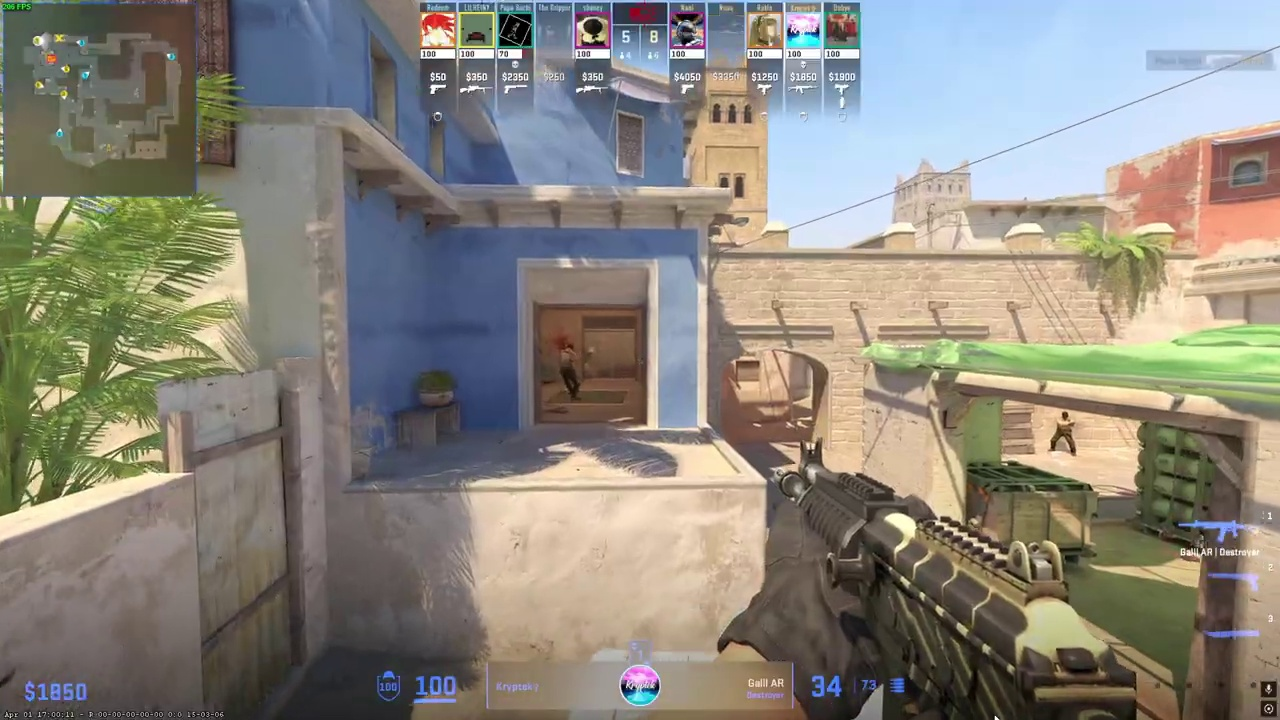Terrorist: (559, 343, 581, 400), (1050, 411, 1076, 455)
